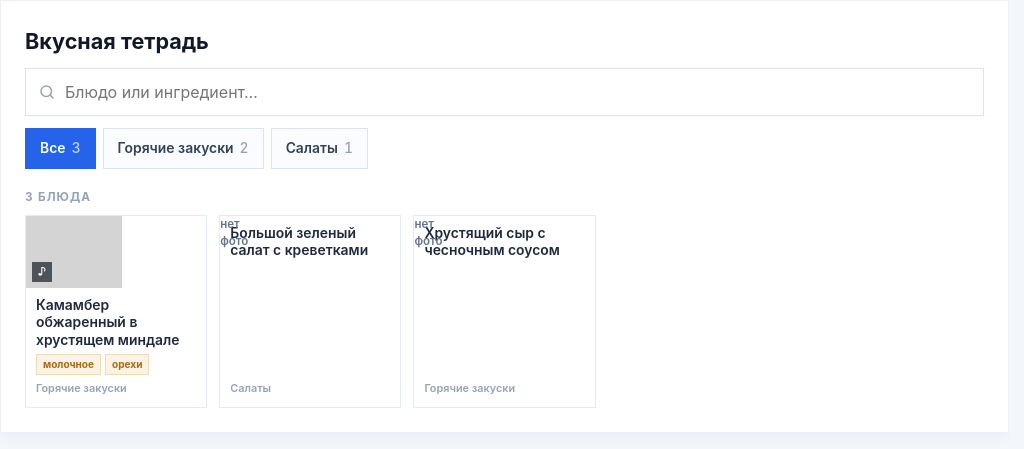
TastyNotebookView — экран официанта › фильтрует по разделу меню и считает блюда в каждом
Click the button with class "nb-cat" showing "Горячие закуски2": (183,149) [102,128,264,169]
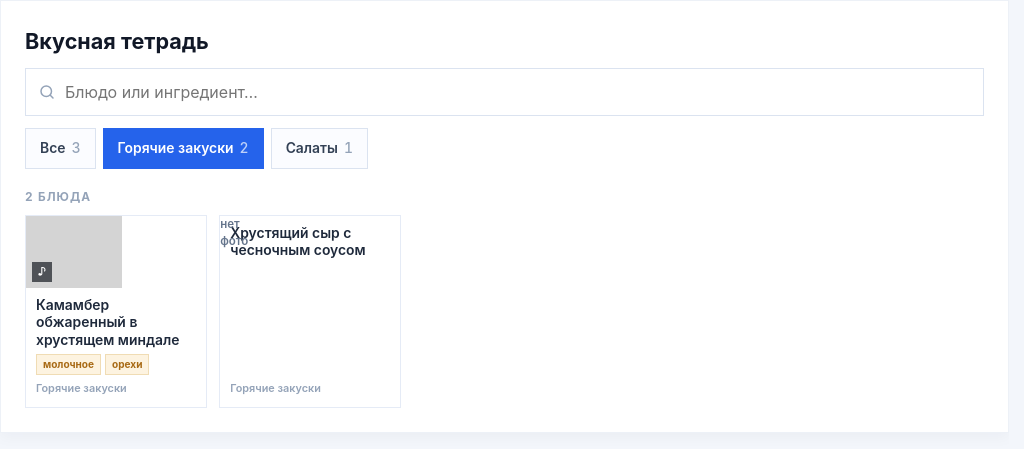
Now the number of buttons with class "nb-tile" is 2, box [25,215,207,408]; [219,215,401,408]
